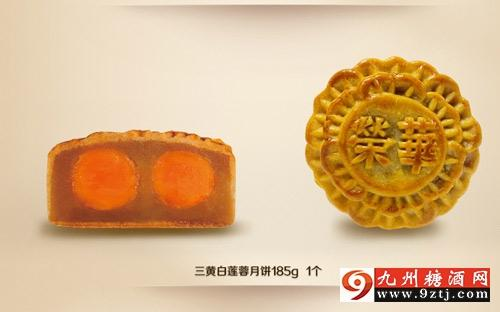MoonCake: (305, 55, 481, 231), (45, 129, 235, 229)
